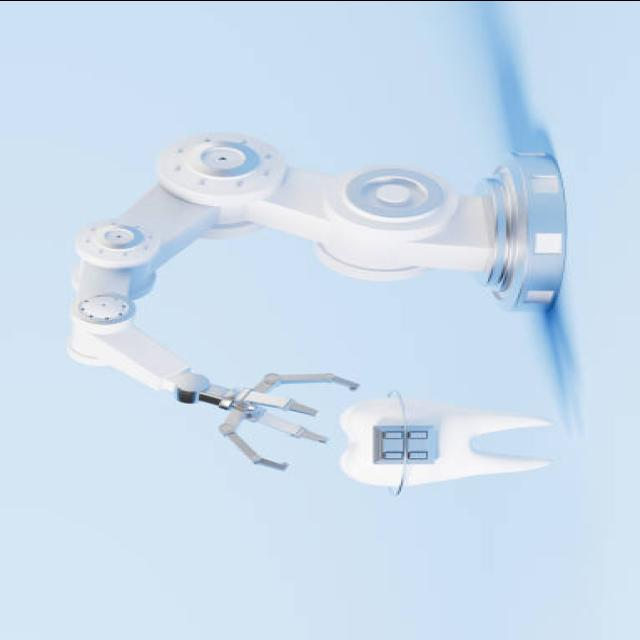Robotic-arm: (44, 130, 506, 477)
